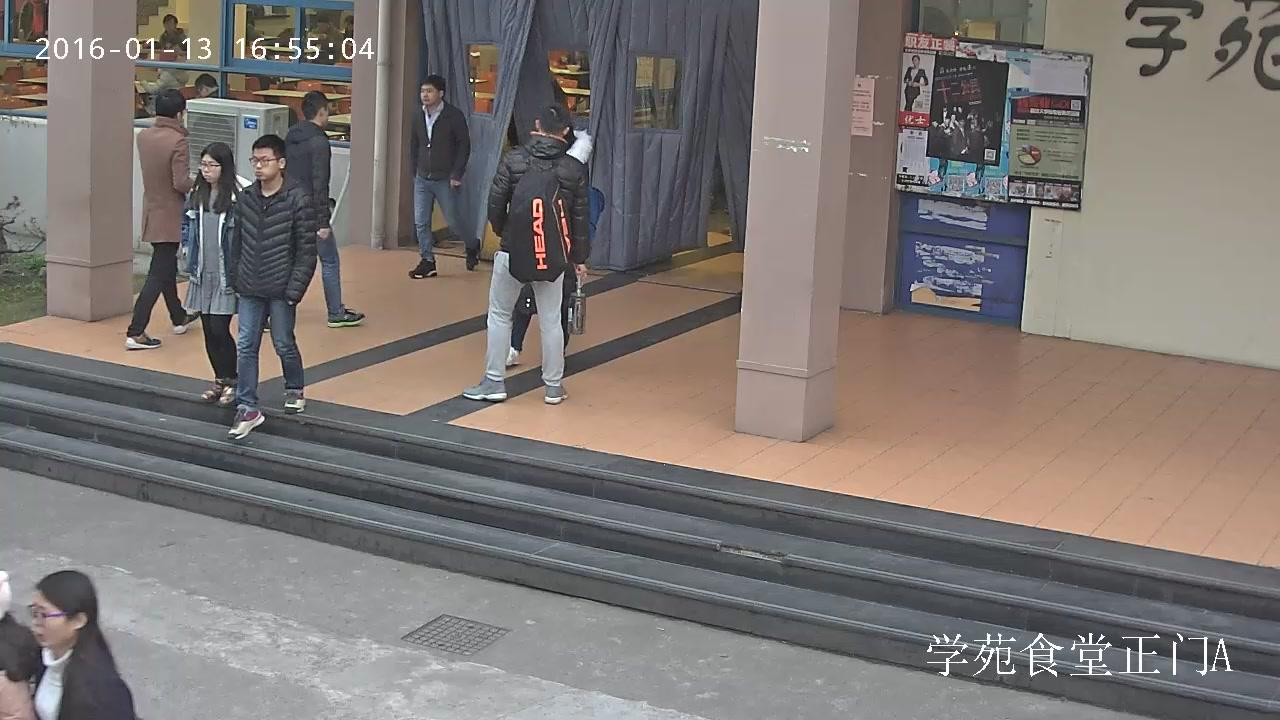person: (461, 102, 593, 404), (226, 133, 318, 439), (261, 89, 367, 332), (173, 141, 255, 410), (125, 89, 203, 351), (25, 569, 134, 720), (407, 72, 482, 278), (134, 46, 190, 117), (19, 0, 49, 68), (901, 54, 929, 114), (158, 12, 187, 52)
